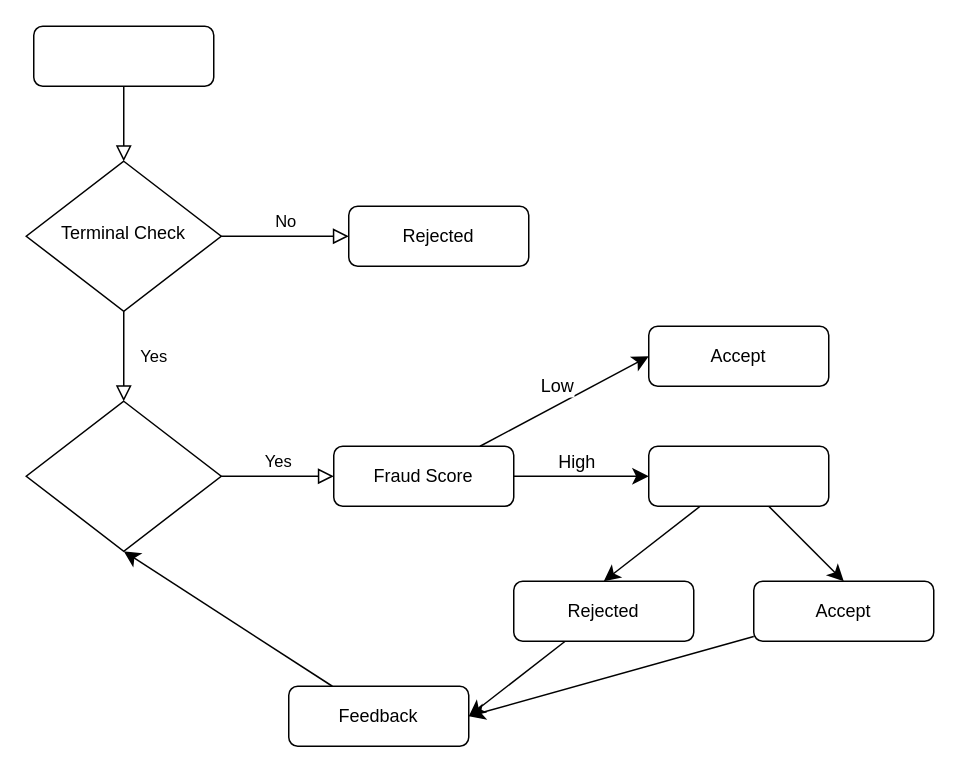
The diagram is 960 pixels wide and 773 high, and some of its shapes have lost their labels. The box of each missing label's shape, as (x1, y1, x2, y2) in pixels:
Checking Investigator: (647, 445, 829, 506)
Predictive Model: (25, 400, 221, 551)
Trasaksi: (32, 25, 214, 86)
